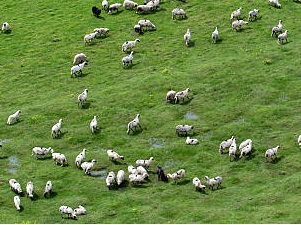sheep: (200, 174, 227, 191), (169, 6, 193, 24), (49, 151, 73, 169), (216, 136, 237, 155), (181, 132, 205, 148), (6, 177, 25, 196), (119, 51, 139, 69), (124, 114, 144, 132), (162, 87, 182, 105), (30, 146, 57, 159), (227, 7, 251, 21), (48, 118, 65, 137), (262, 144, 279, 163), (79, 160, 98, 177), (88, 114, 102, 137), (172, 123, 194, 137), (4, 110, 22, 127), (136, 17, 159, 30), (113, 170, 129, 188), (8, 194, 24, 212), (174, 89, 196, 102), (24, 180, 37, 202), (239, 139, 255, 156), (119, 39, 141, 51), (247, 9, 267, 22), (74, 149, 90, 165), (271, 20, 286, 37), (209, 28, 224, 45), (78, 89, 93, 106), (41, 181, 56, 198), (56, 206, 73, 221), (135, 157, 158, 168), (229, 18, 247, 32), (67, 61, 88, 73), (167, 168, 185, 182), (135, 165, 153, 179), (181, 29, 194, 48), (228, 139, 239, 161), (277, 31, 293, 46), (105, 171, 121, 186), (89, 5, 106, 19), (81, 32, 100, 44), (109, 149, 126, 162), (132, 22, 150, 34), (191, 174, 205, 189), (72, 203, 87, 217), (73, 52, 90, 64), (109, 1, 122, 16), (137, 6, 156, 14), (129, 174, 144, 184), (2, 21, 14, 33), (93, 28, 109, 36), (124, 163, 135, 174), (99, 1, 112, 10), (123, 1, 138, 8)
